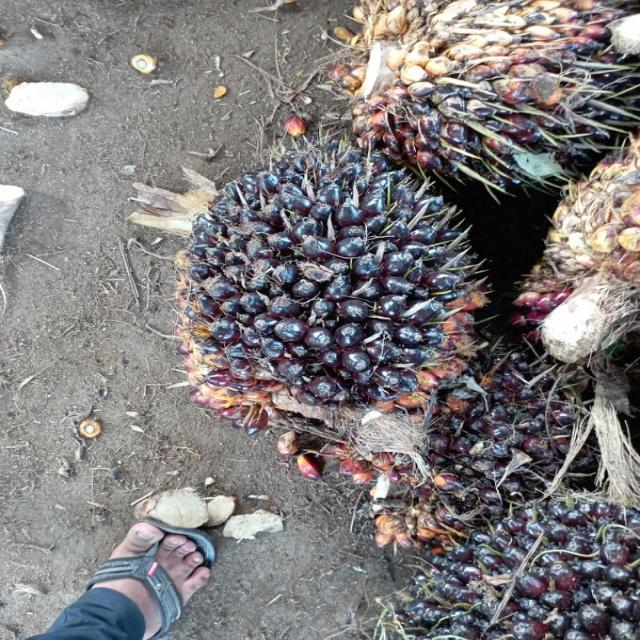fraksi 00: (180, 142, 463, 421)
